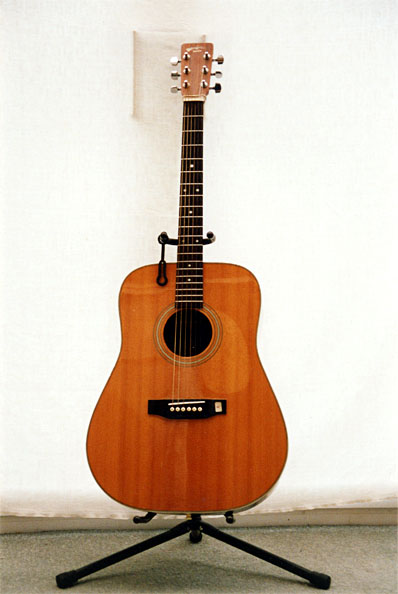guitar: (86, 42, 291, 517)
